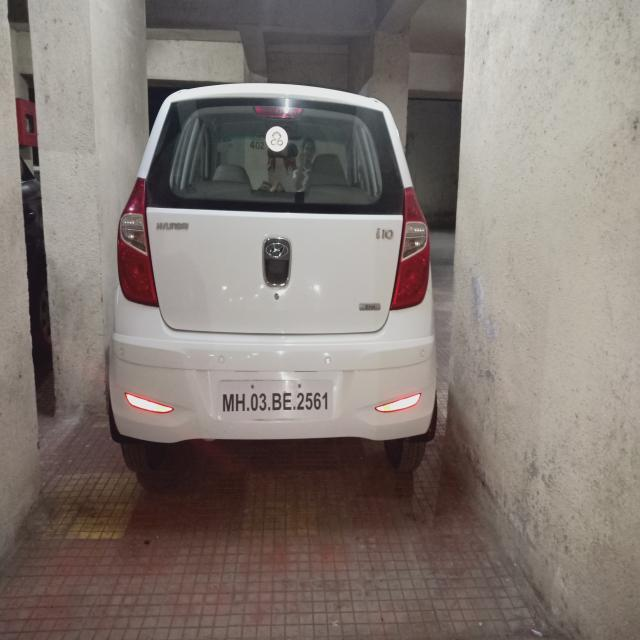Number-Plate: (222, 379, 333, 421)
